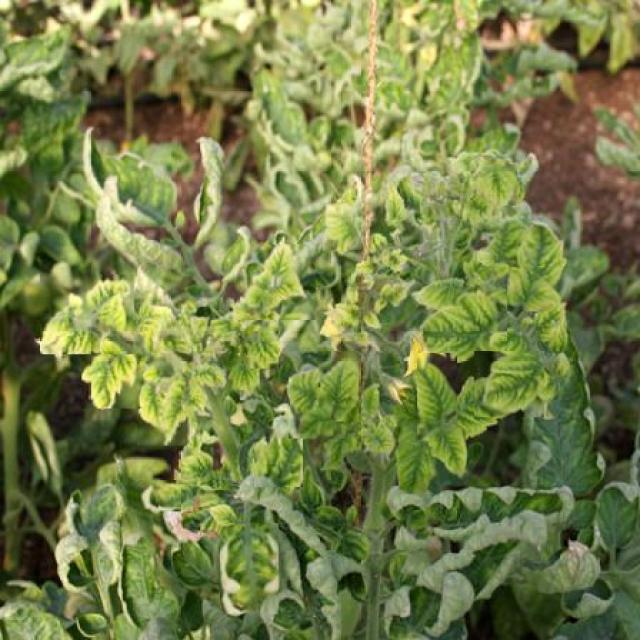Yellow Leaf Curl Virus: (83, 122, 178, 227), (41, 275, 135, 355), (495, 220, 571, 311), (422, 286, 507, 364), (234, 244, 316, 320), (138, 340, 192, 446), (220, 523, 279, 614), (474, 350, 544, 417), (82, 334, 142, 409), (288, 372, 346, 438), (417, 353, 457, 441), (399, 419, 437, 494), (254, 429, 303, 487), (318, 350, 358, 421), (429, 426, 468, 488), (324, 203, 366, 251), (138, 481, 193, 512), (246, 318, 278, 369), (479, 164, 517, 206)
